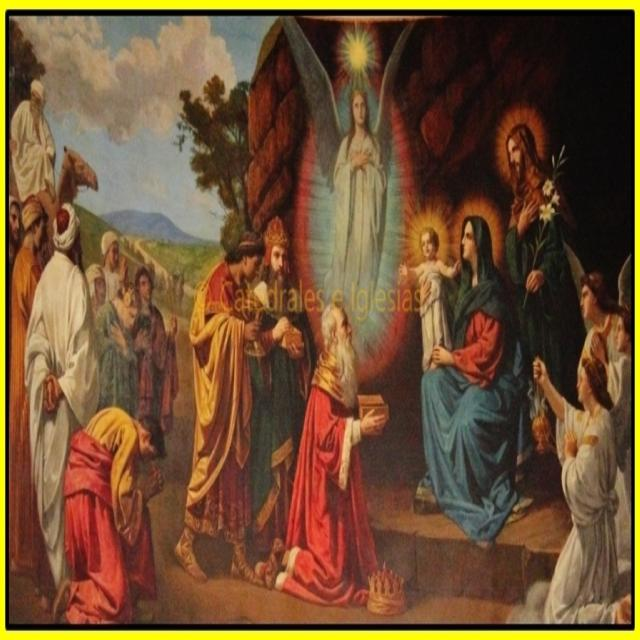Person: (398, 125, 588, 553), (4, 197, 180, 634), (284, 17, 417, 346), (255, 304, 388, 604), (534, 270, 639, 640), (171, 226, 266, 583), (250, 214, 311, 564), (10, 81, 53, 201)
